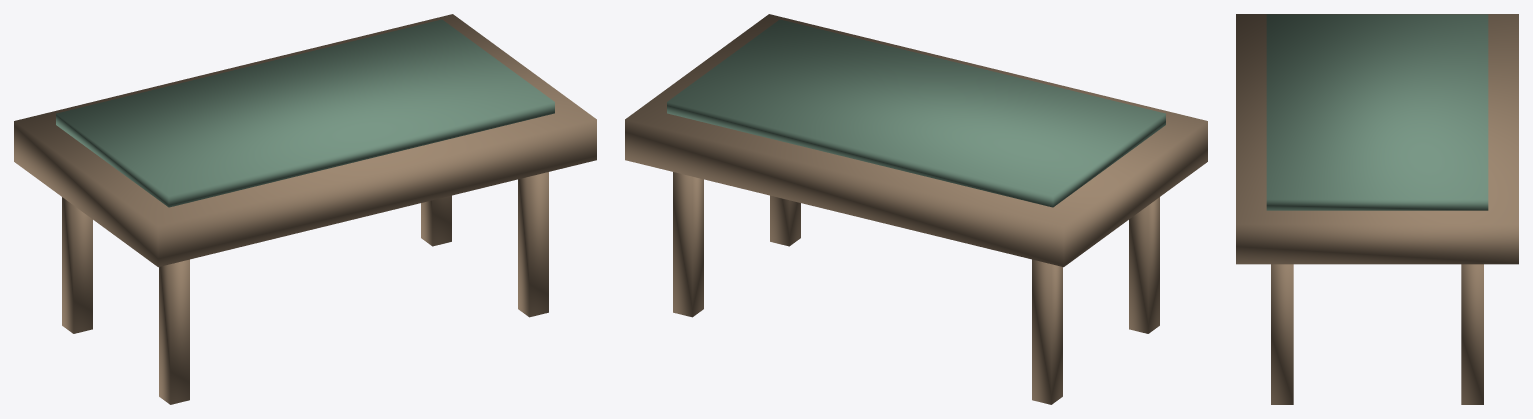
File: pool_table__compact.glb
3 views of the same model, side by side, from view 1: azimuth 30°, elevation 25°; view 2: azimuth 150°, elevation 25°; view 3: azimuth 270°, elevation 25° (orthographic).
Parts seen in each view (by area): view 1: world; view 2: world; view 3: world.
Part boxes in pixels (left/top/right/bottom): world: left=14, top=14, right=596, bottom=404; world: left=625, top=14, right=1207, bottom=404; world: left=1236, top=14, right=1518, bottom=404.
Bounding box in the file's own units: 1.89 × 0.8695 × 1.08.
